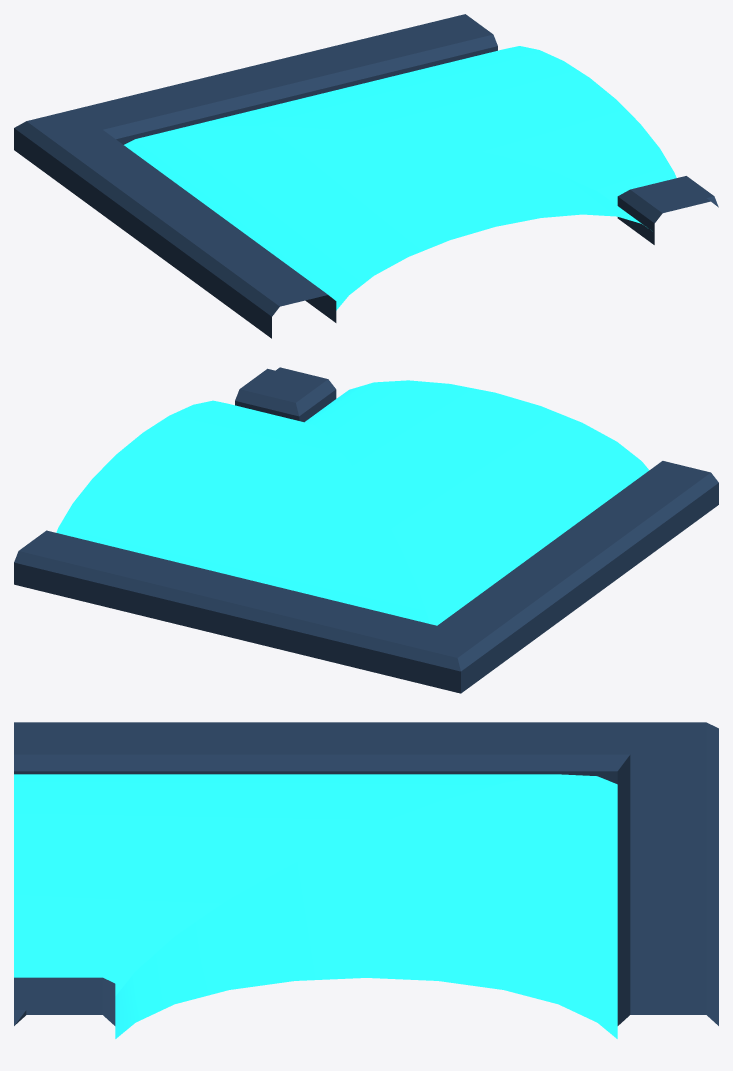
File: Light_Trim_01_SquareShortCorner.glb
3 renders of one model, top to bottom at view 1: azimuth 30°, elevation 25°; view 2: azimuth 150°, elevation 25°; view 3: azimuth 270°, elevation 25°, orthographic. The views are drawn at different scales.
Visible parts, largest first — view 1: Light_Trim_01_SquareShortCorner.001; view 2: Light_Trim_01_SquareShortCorner.001; view 3: Light_Trim_01_SquareShortCorner.001.
Part boxes in pixels (bbox=[...]): Light_Trim_01_SquareShortCorner.001: bbox=[14, 14, 718, 338]; Light_Trim_01_SquareShortCorner.001: bbox=[14, 367, 718, 693]; Light_Trim_01_SquareShortCorner.001: bbox=[14, 722, 718, 1038].
Size of the model in its own units: 0.1 by 0.0123 by 0.1.
